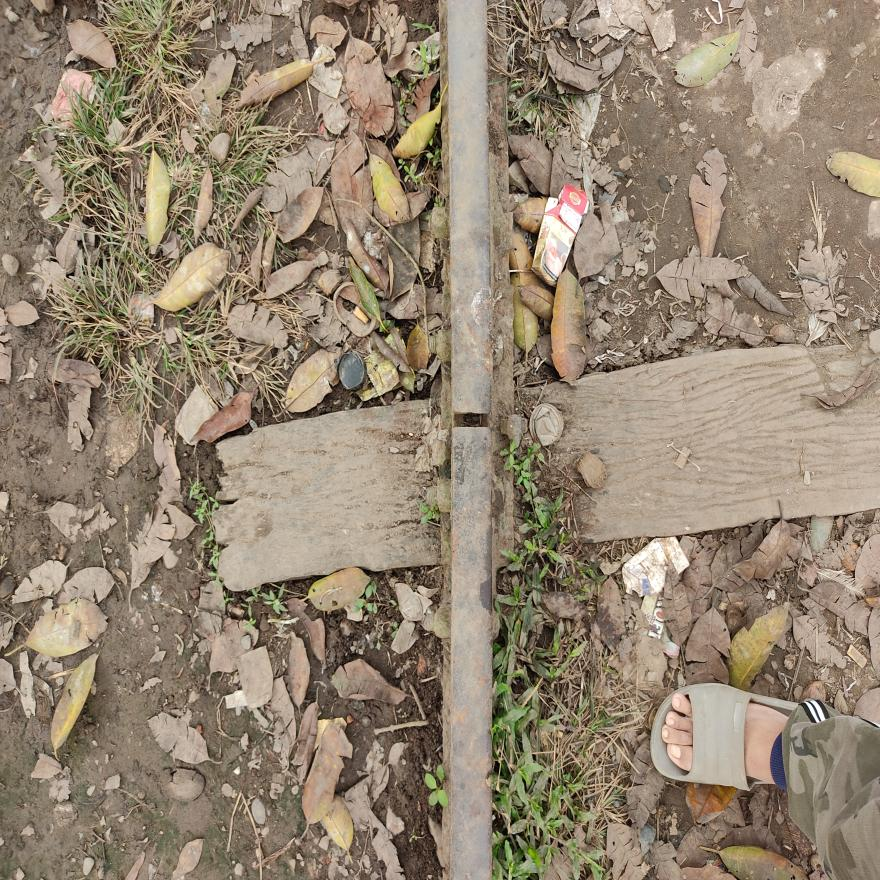railway-gap: (437, 369, 504, 471)
